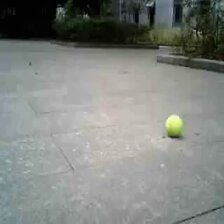tennis: (165, 115, 181, 136)
